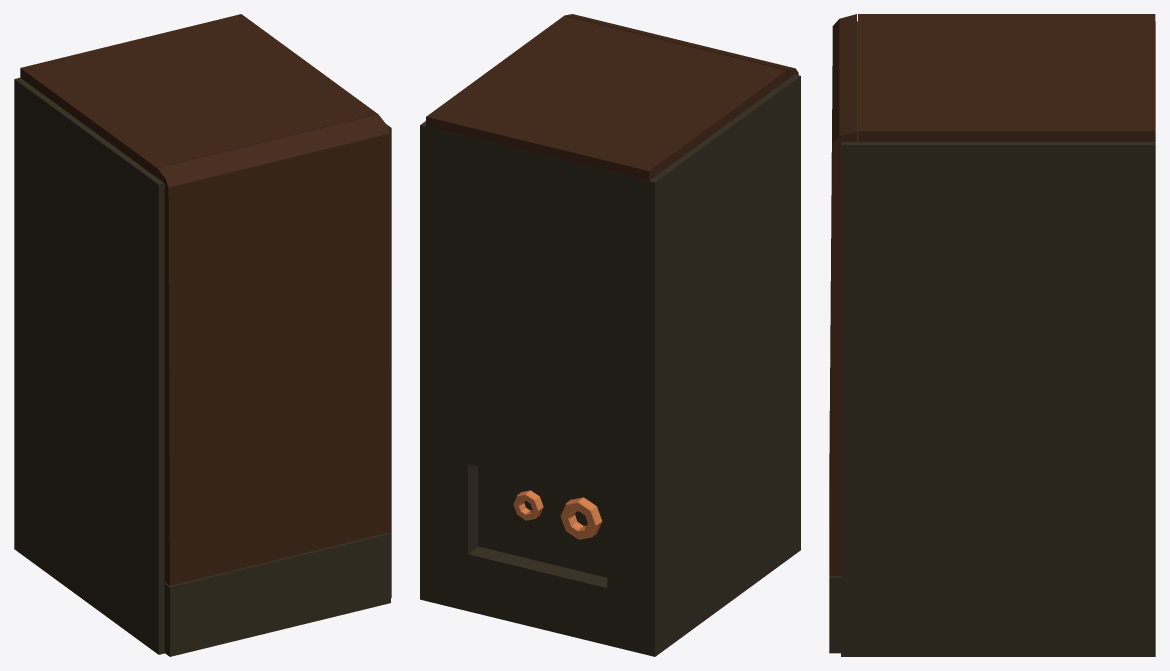
Rendered from stereo.L.fbx.
The picture shows the model from 3 angles, left to right: view 1: azimuth 30°, elevation 25°; view 2: azimuth 150°, elevation 25°; view 3: azimuth 270°, elevation 25°; orthographic projection. The views are drawn at different scales.
Parts seen in each view (by area): view 1: stereo.L; view 2: stereo.L; view 3: stereo.L.
Boxes of the visible parts, box(x1,y1,x2,y2) form: stereo.L: box(14, 14, 391, 656); stereo.L: box(420, 14, 800, 656); stereo.L: box(829, 14, 1155, 656).
Bounding box in the file's own units: 16.36 × 32.23 × 18.23.
